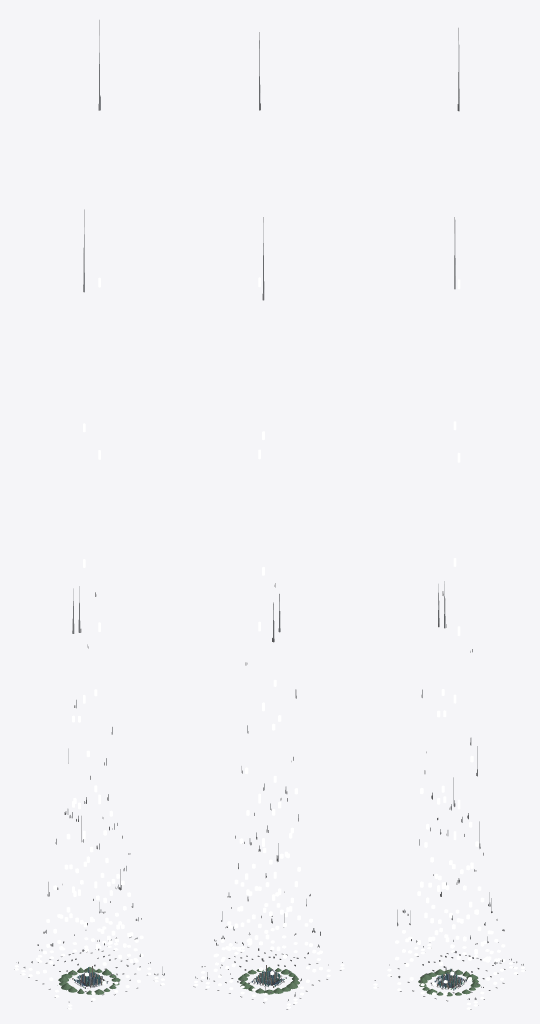
Rendered from city.glb.
The picture shows the model from 3 angles, left to right: view 1: azimuth 30°, elevation 25°; view 2: azimuth 150°, elevation 25°; view 3: azimuth 330°, elevation 25°; orthographic projection.
Bounding box in the file's own units: 391 × 3775 × 397.
